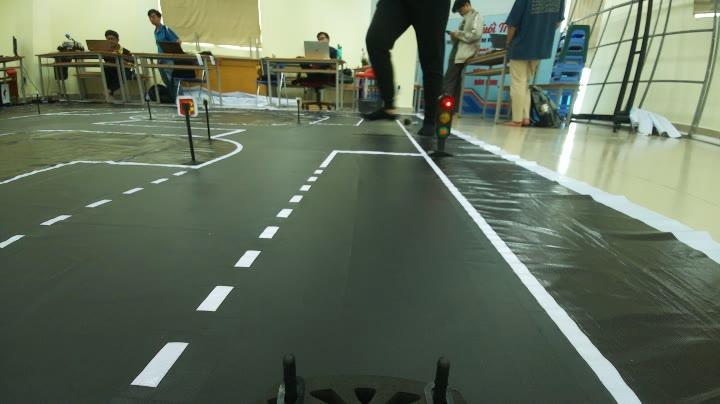trafficlight: (420, 92, 466, 164)
